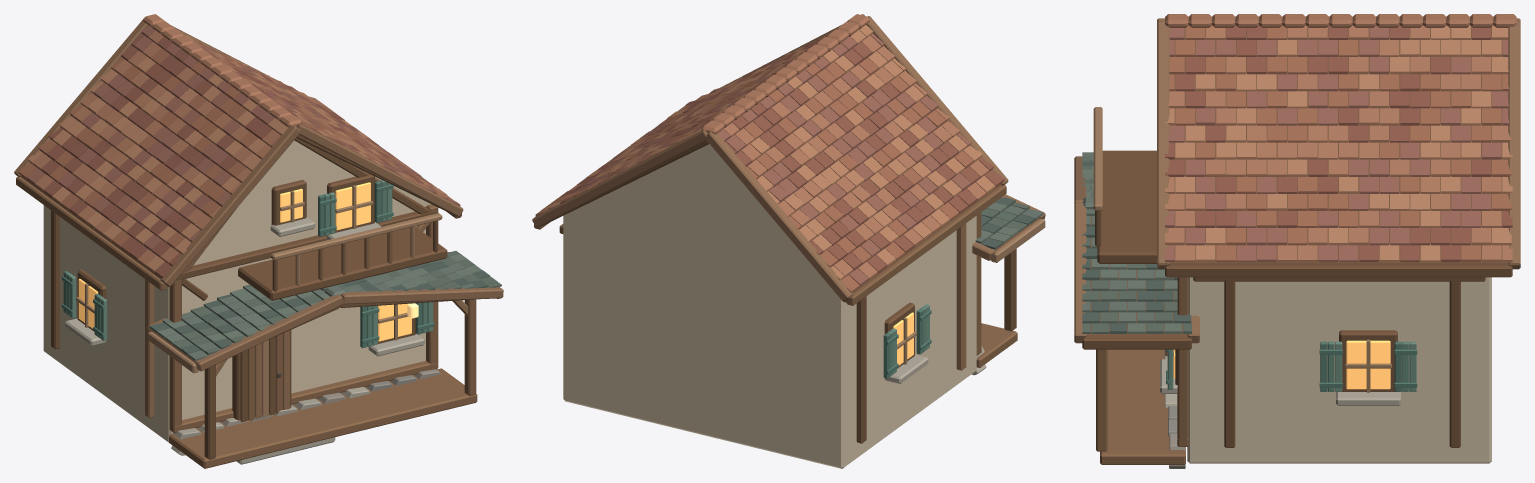
File: gallery.glb
3 renders of one model, left to right at view 1: azimuth 30°, elevation 25°; view 2: azimuth 150°, elevation 25°; view 3: azimuth 270°, elevation 25°, orthographic. The views are drawn at different scales.
Visible parts, largest first — view 1: gallery Warm limewash 01, gallery Oiled oak 02, gallery Oiled oak 01, gallery Fired clay 03, gallery Oak end grain 01, gallery Fired clay 05, gallery Fired clay 01, gallery Fired clay 04, gallery Fired clay 02, gallery Honey glass 01, gallery Warm slate 03, gallery Oiled oak 04 (+10 smaller); view 2: gallery Warm limewash 01, gallery Fired clay 03, gallery Fired clay 05, gallery Fired clay 01, gallery Fired clay 04, gallery Fired clay 02, gallery Oak end grain 01, gallery Oiled oak 01, gallery Oiled oak 02, gallery Oiled oak 03, gallery Weathered sage paint 01, gallery Slate green shingles 01 (+4 smaller); view 3: gallery Warm limewash 01, gallery Oiled oak 01, gallery Fired clay 03, gallery Fired clay 04, gallery Fired clay 02, gallery Fired clay 05, gallery Fired clay 01, gallery Oiled oak 02, gallery Oak end grain 01, gallery Slate green shingles 02, gallery Slate green shingles 01, gallery Honey glass 01 (+8 smaller).
Part boxes in pixels (x1=…): gallery Warm limewash 01: x1=43, y1=140, x2=430, y2=443; gallery Oiled oak 02: x1=16, y1=176, x2=477, y2=468; gallery Oiled oak 01: x1=21, y1=135, x2=503, y2=459; gallery Fired clay 03: x1=32, y1=14, x2=454, y2=266; gallery Oak end grain 01: x1=14, y1=18, x2=503, y2=371; gallery Fired clay 05: x1=28, y1=35, x2=447, y2=272; gallery Fired clay 01: x1=41, y1=34, x2=423, y2=278; gallery Fired clay 04: x1=26, y1=25, x2=460, y2=251; gallery Fired clay 02: x1=18, y1=40, x2=437, y2=249; gallery Honey glass 01: x1=78, y1=182, x2=411, y2=341; gallery Warm slate 03: x1=65, y1=217, x2=424, y2=464; gallery Oiled oak 04: x1=148, y1=213, x2=442, y2=416; gallery Warm limewash 01: x1=563, y1=144, x2=976, y2=468; gallery Fired clay 03: x1=535, y1=14, x2=989, y2=279; gallery Fired clay 05: x1=548, y1=25, x2=995, y2=280; gallery Fired clay 01: x1=559, y1=40, x2=1004, y2=273; gallery Fired clay 04: x1=575, y1=33, x2=972, y2=286; gallery Fired clay 02: x1=550, y1=35, x2=973, y2=292; gallery Oak end grain 01: x1=532, y1=14, x2=1045, y2=302; gallery Oiled oak 01: x1=534, y1=140, x2=1039, y2=443; gallery Oiled oak 02: x1=846, y1=185, x2=1017, y2=367; gallery Oiled oak 03: x1=845, y1=223, x2=966, y2=370; gallery Weathered sage paint 01: x1=883, y1=309, x2=931, y2=378; gallery Slate green shingles 01: x1=981, y1=197, x2=1035, y2=249; gallery Warm limewash 01: x1=1187, y1=277, x2=1491, y2=463; gallery Oiled oak 01: x1=1082, y1=26, x2=1512, y2=447; gallery Fired clay 03: x1=1165, y1=14, x2=1516, y2=262; gallery Fired clay 04: x1=1165, y1=25, x2=1509, y2=262; gallery Fired clay 02: x1=1169, y1=25, x2=1511, y2=262; gallery Fired clay 05: x1=1165, y1=25, x2=1512, y2=262; gallery Fired clay 01: x1=1165, y1=25, x2=1512, y2=262; gallery Oiled oak 02: x1=1096, y1=277, x2=1188, y2=464; gallery Oak end grain 01: x1=1074, y1=18, x2=1520, y2=343; gallery Slate green shingles 02: x1=1082, y1=156, x2=1191, y2=333; gallery Slate green shingles 01: x1=1082, y1=161, x2=1191, y2=333; gallery Honey glass 01: x1=1173, y1=340, x2=1390, y2=389.
Size of the model in its own units: 6.24 by 5.92 by 6.47.
